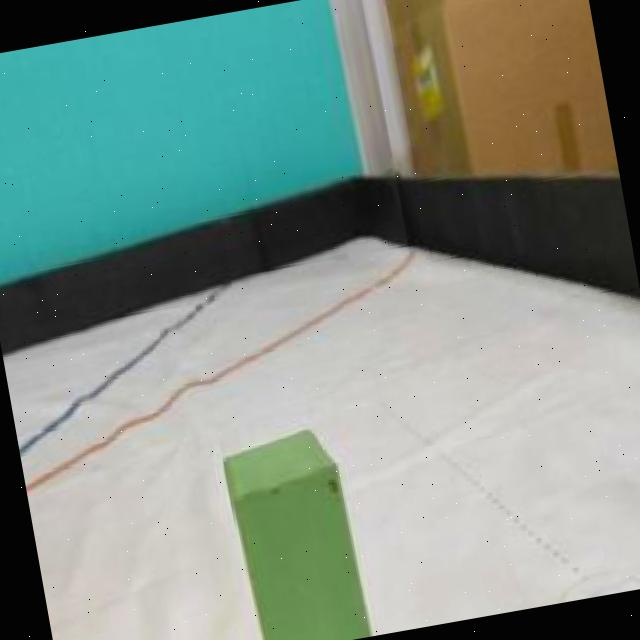greenbox: (216, 417, 371, 640)
